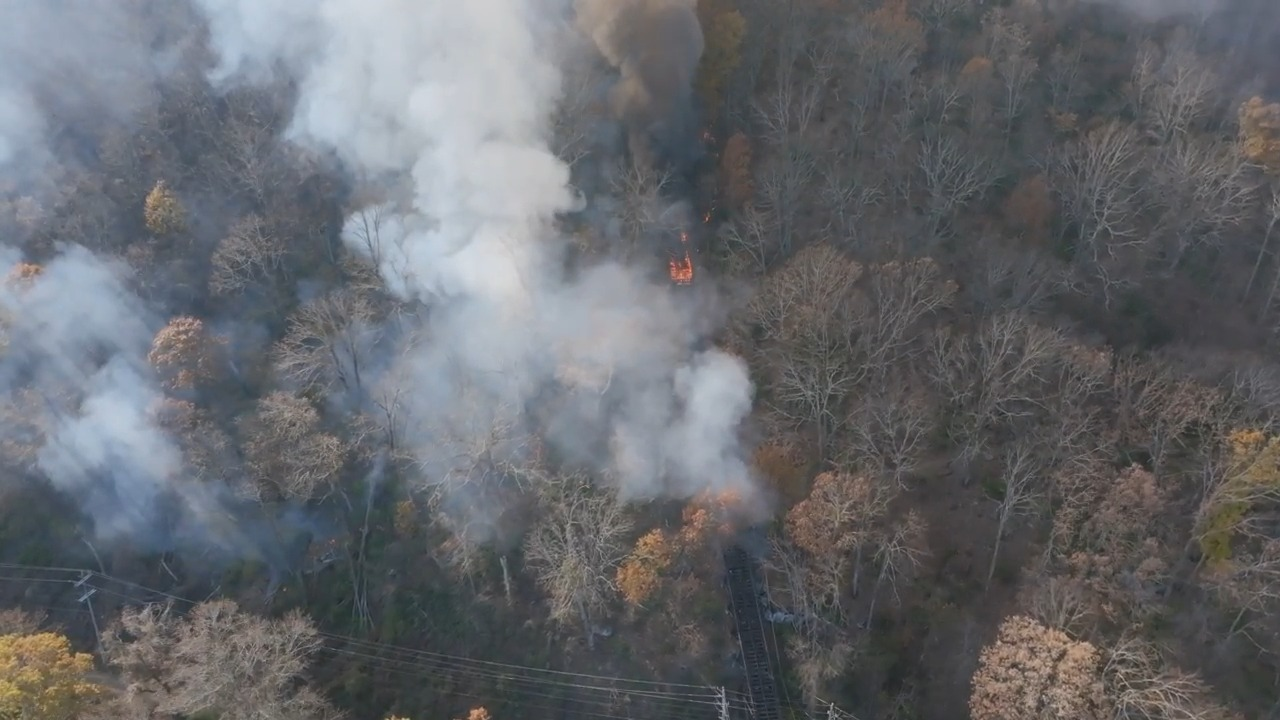fire: (669, 230, 693, 284), (669, 249, 693, 284), (703, 210, 714, 224)
smoke: (200, 0, 754, 497), (0, 246, 239, 550), (0, 0, 184, 181), (575, 0, 703, 129)
